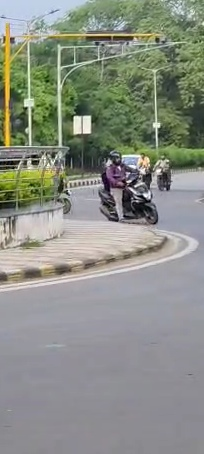BikeWithRider: (93, 146, 162, 227), (151, 151, 176, 192)
Helmet: (106, 148, 123, 167)
